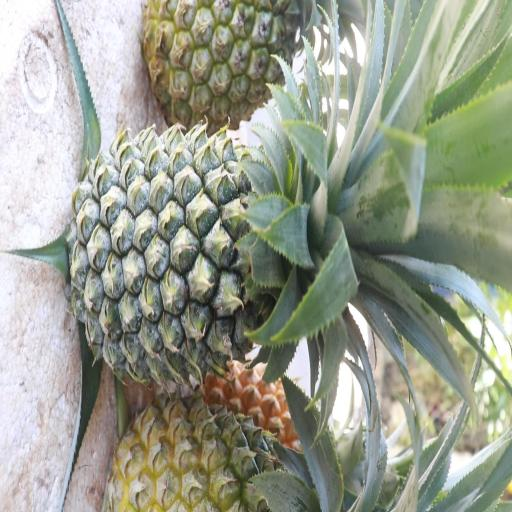------------------------------: (110, 395, 297, 512), (144, 0, 313, 122)
